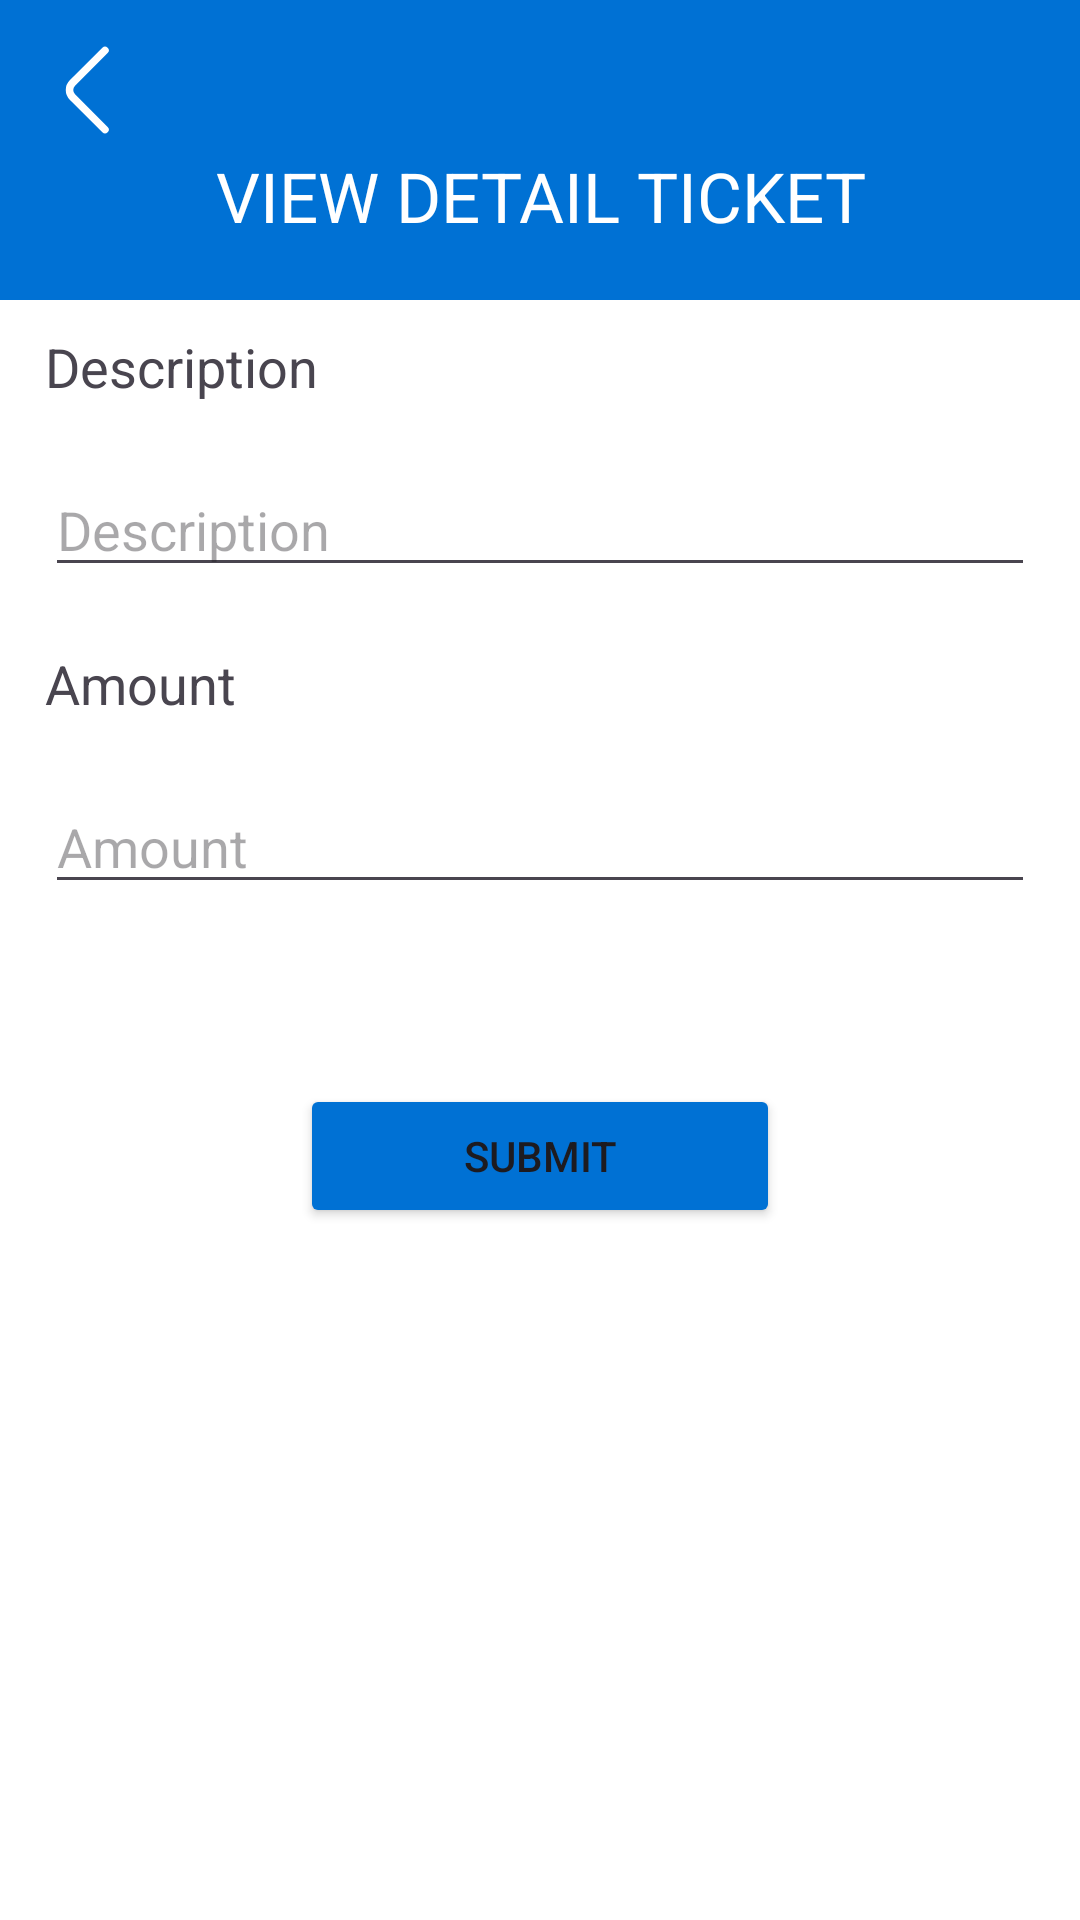

Screen size 1080px x 1920px. Icon name, then its center in pixels as (x=x, y=y):
back: (x=87, y=90)
